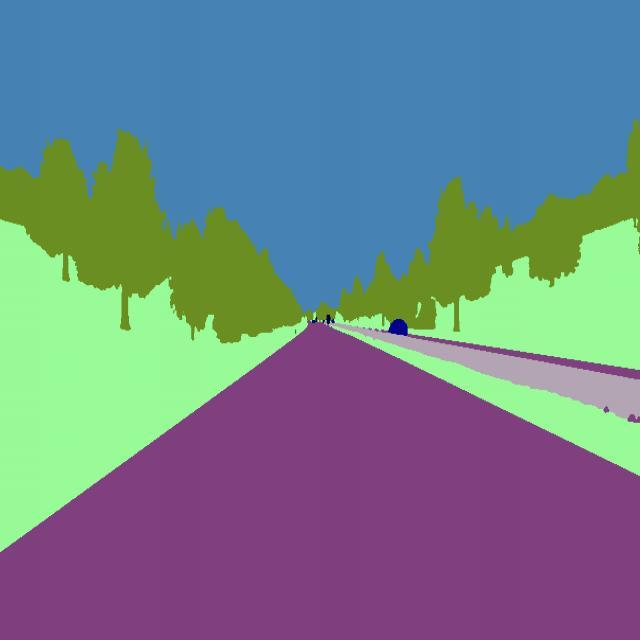safe: (384, 312, 413, 338)
